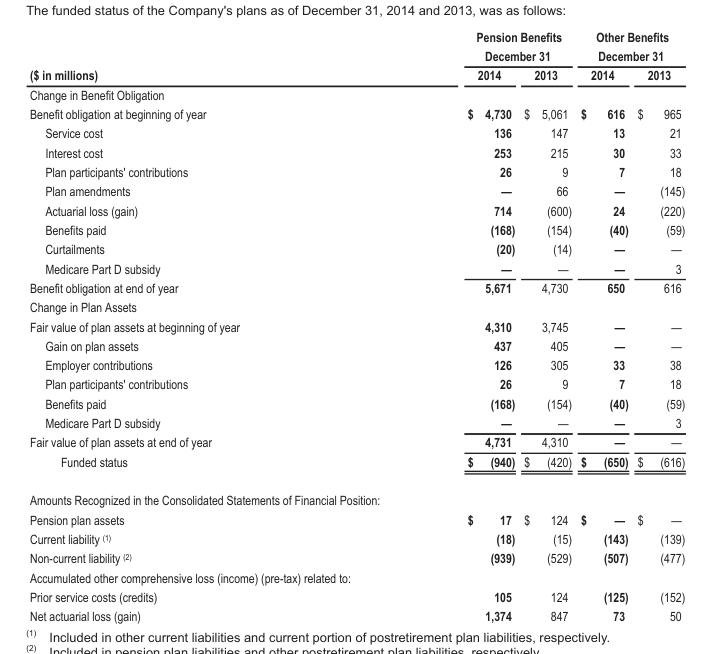table: (29, 28, 684, 622)
table column: (29, 28, 352, 622), (352, 28, 518, 622), (518, 28, 575, 622), (575, 28, 632, 622), (632, 28, 684, 622)
table column header: (29, 28, 684, 84)
table projected row header: (29, 480, 684, 509), (29, 296, 684, 316), (29, 84, 684, 103), (29, 567, 684, 586)
table row: (29, 28, 684, 65), (29, 451, 684, 480), (29, 480, 684, 509), (29, 103, 684, 123), (29, 161, 684, 181), (29, 238, 684, 258), (29, 296, 684, 316), (29, 354, 684, 374), (29, 412, 684, 432), (29, 547, 684, 567), (29, 65, 684, 84), (29, 84, 684, 103), (29, 123, 684, 142), (29, 142, 684, 161), (29, 181, 684, 200), (29, 200, 684, 219), (29, 219, 684, 238), (29, 258, 684, 277), (29, 277, 684, 296), (29, 316, 684, 335), (29, 335, 684, 354), (29, 374, 684, 393), (29, 393, 684, 412), (29, 432, 684, 451), (29, 509, 684, 528), (29, 528, 684, 547), (29, 567, 684, 586), (29, 586, 684, 605), (29, 605, 684, 622)
table spanning cell: (29, 28, 352, 84), (352, 28, 575, 65), (575, 28, 684, 65)
